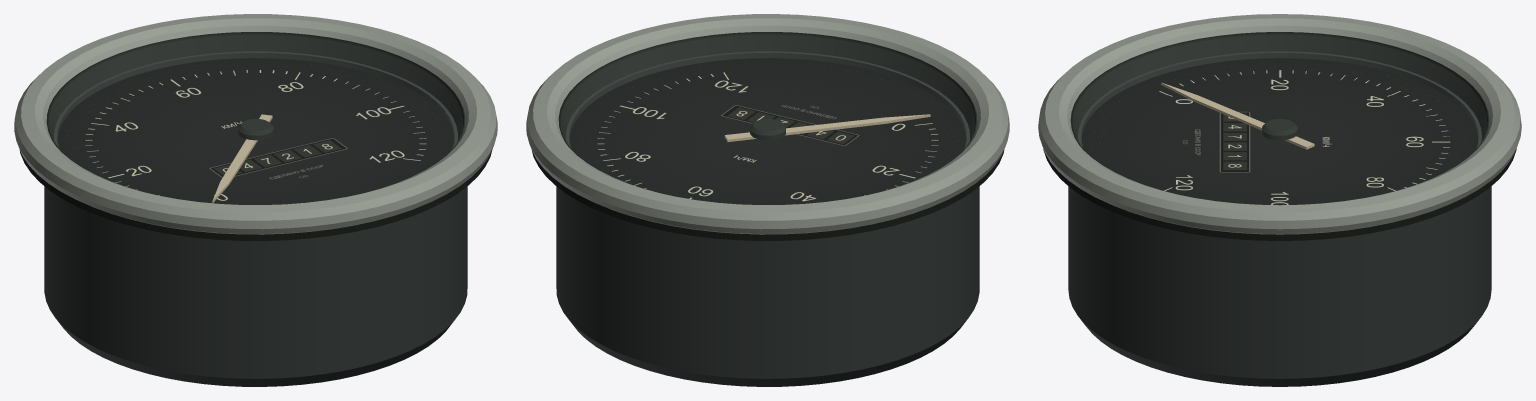
The model's file is uaz-speedometer.glb.
3 views of the same model, side by side, from view 1: azimuth 30°, elevation 25°; view 2: azimuth 150°, elevation 25°; view 3: azimuth 270°, elevation 25° (orthographic).
Parts seen in each view (by area): view 1: speedometer_body, dial, rolled_bezel, inner_shadow_ring, mounting_gasket, speed_needle, needle_hub; view 2: speedometer_body, dial, rolled_bezel, inner_shadow_ring, mounting_gasket, speed_needle, needle_hub; view 3: speedometer_body, dial, rolled_bezel, inner_shadow_ring, mounting_gasket, speed_needle, needle_hub.
Part boxes in pixels (box(x1,y1,x2,y2)): speedometer_body: box(44, 51, 467, 386); dial: box(57, 58, 454, 204); rolled_bezel: box(14, 14, 497, 234); inner_shadow_ring: box(46, 32, 465, 156); mounting_gasket: box(19, 150, 491, 240); speed_needle: box(212, 114, 272, 203); needle_hub: box(238, 119, 273, 140); speedometer_body: box(556, 51, 979, 386); dial: box(569, 58, 966, 204); rolled_bezel: box(526, 14, 1009, 234); inner_shadow_ring: box(558, 32, 977, 156); mounting_gasket: box(532, 150, 1004, 240); speed_needle: box(724, 114, 930, 141); needle_hub: box(750, 119, 785, 140); speedometer_body: box(1068, 51, 1491, 386); dial: box(1081, 58, 1478, 205); rolled_bezel: box(1038, 14, 1521, 234); inner_shadow_ring: box(1070, 32, 1489, 158); mounting_gasket: box(1043, 149, 1516, 240); speed_needle: box(1161, 82, 1314, 149); needle_hub: box(1262, 119, 1297, 140).
Size of the model in its own units: 0.112 by 0.0484 by 0.112.
Materials: 8 (1 with a texture image).
